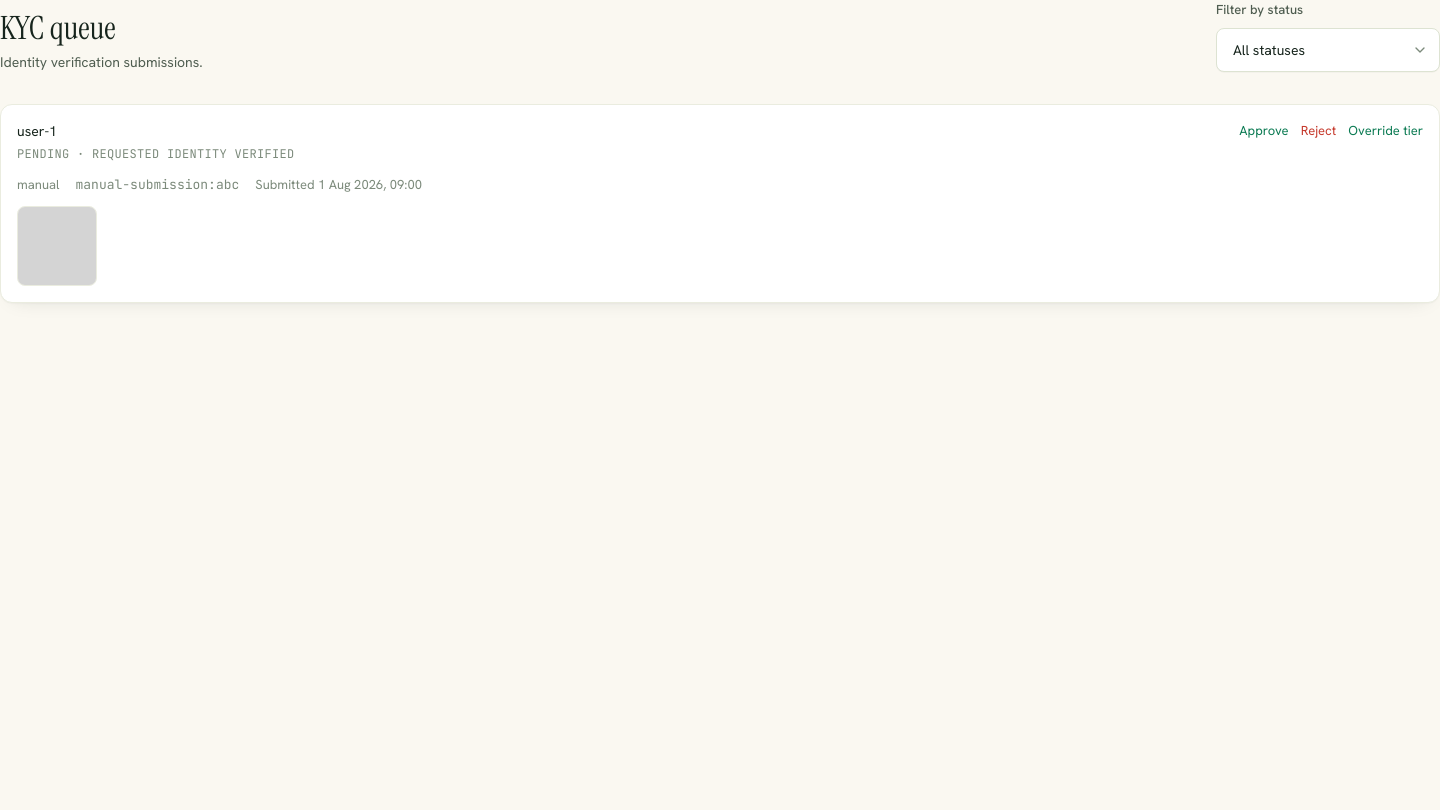
Test: AdminKycPage › requires a reason before an approval can be confirmed
The image size is (1440, 810).
Click the button "Approve": (1264, 130) [1239,120,1289,140]
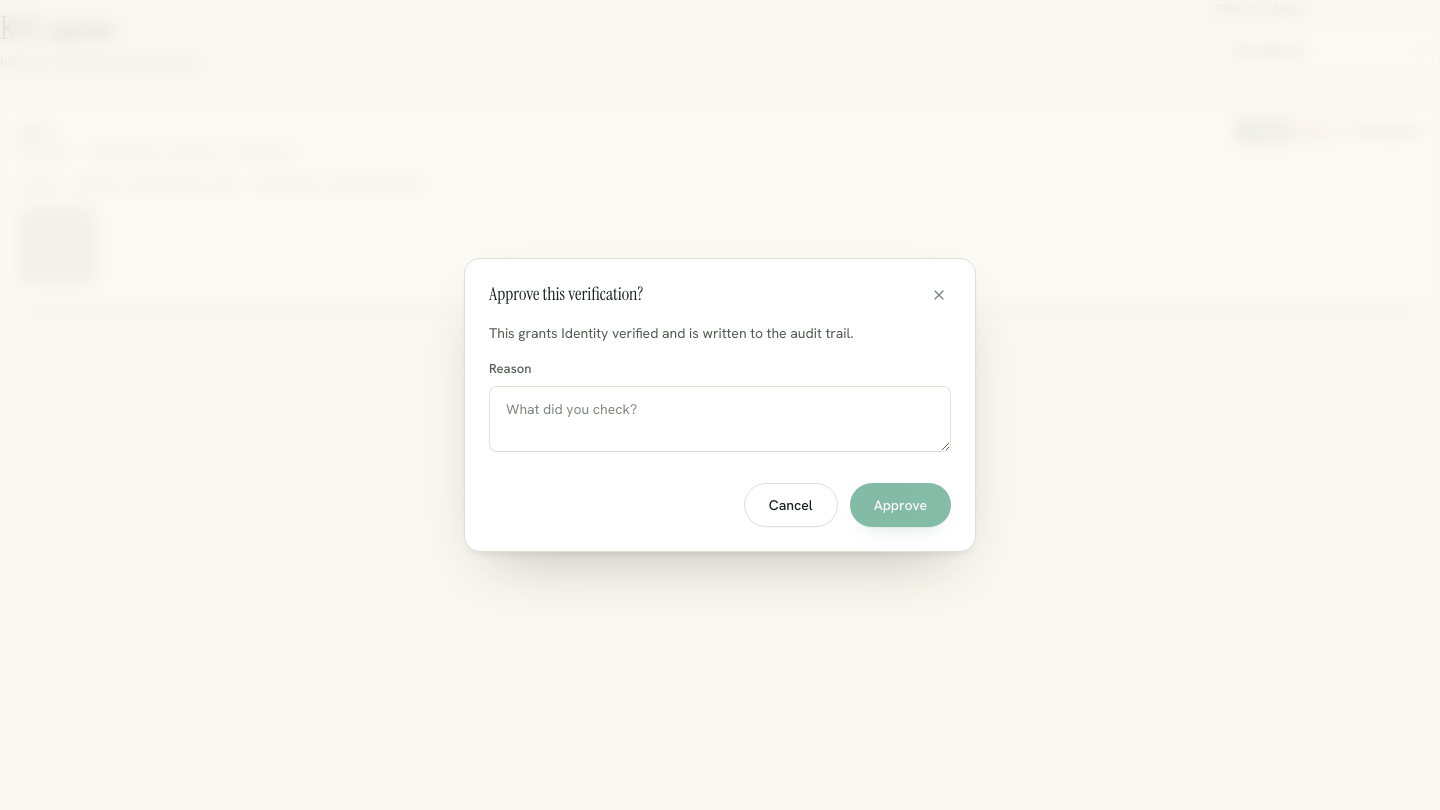
Check: the button "Approve" is disabled, box [850,483,951,527]
In the text box labelled "Reason": (720, 419) [489,386,951,452], type "Documents check out"
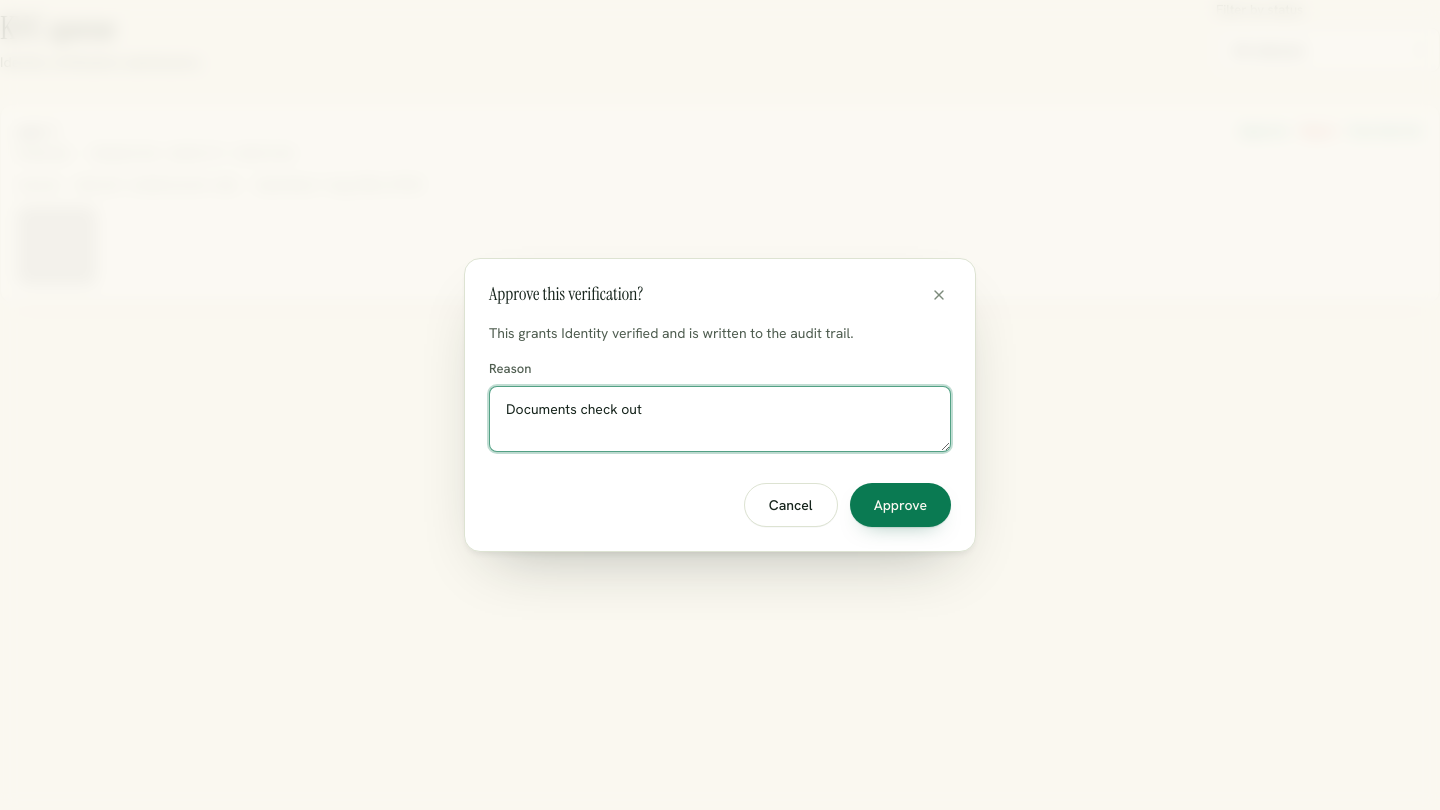
Check: the button "Approve" is enabled
Click the button "Approve": (900, 505) [850,483,951,527]
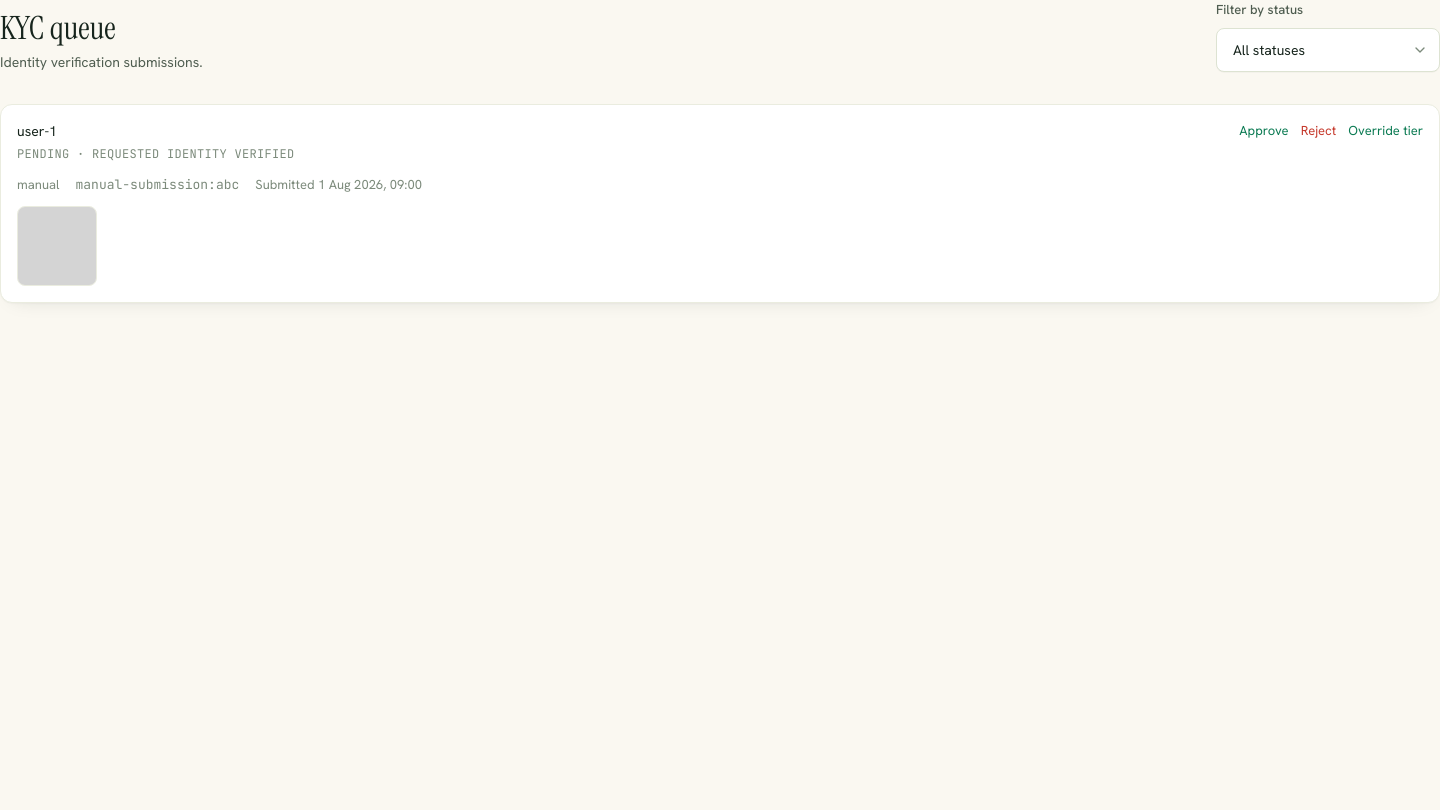
Check: the heading "Approve this verification?" is gone
